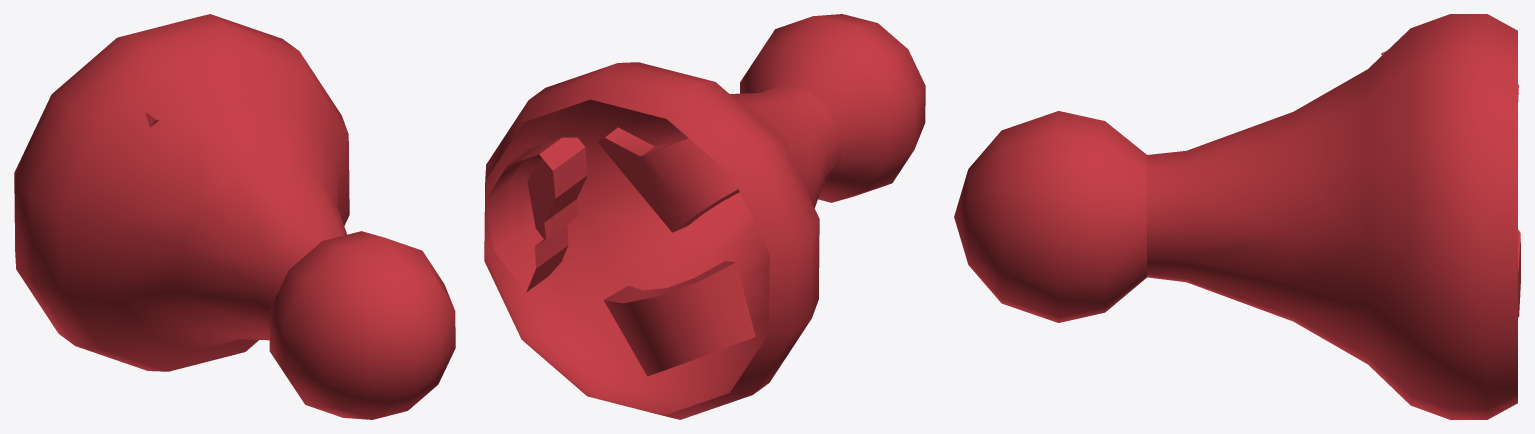
The model's file is airhockey_fragile_geo.glb.
3 renders of one model, left to right at view 1: azimuth 30°, elevation 25°; view 2: azimuth 150°, elevation 25°; view 3: azimuth 270°, elevation 25°, orthographic. The views are drawn at different scales.
Parts seen in each view (by area): view 1: player_token; view 2: player_token, player_token_destroyed; view 3: player_token.
Part boxes in pixels (x1,y1,x2,y2): player_token: [14, 14, 455, 419]; player_token: [484, 14, 925, 419]; player_token_destroyed: [485, 111, 755, 376]; player_token: [954, 14, 1517, 419].
Bounding box in the file's own units: 1 × 1 × 1.42.
